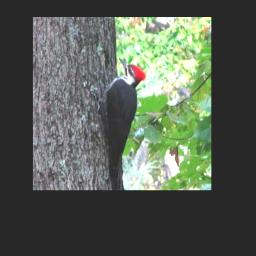Woodpecker: (91, 57, 149, 190)
